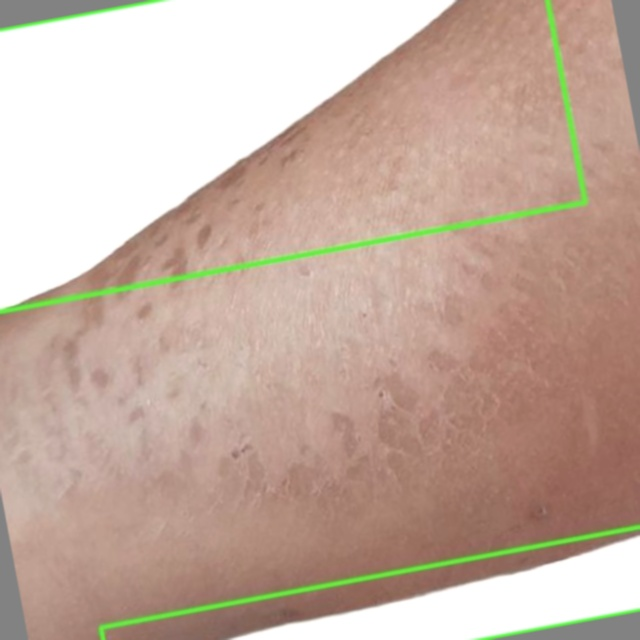Contact Dermatitis: (0, 0, 585, 311), (100, 527, 639, 639)
